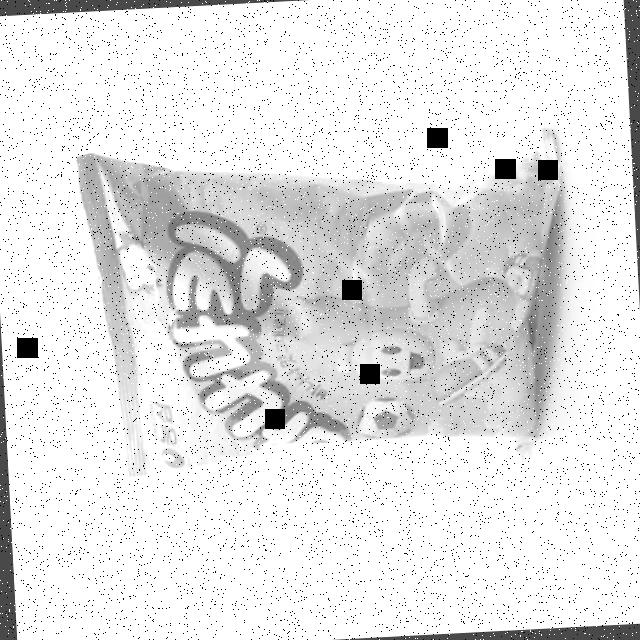snack_bag: (66, 108, 586, 492)
